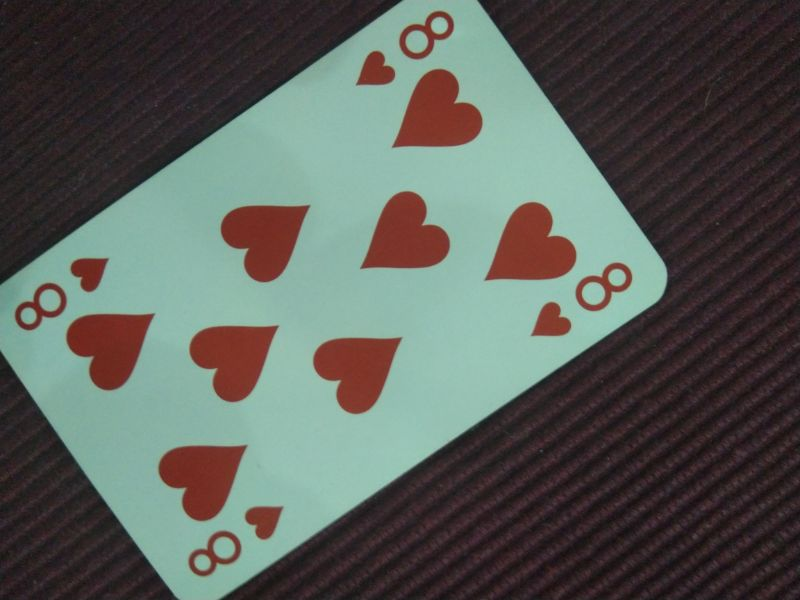8h: (529, 258, 638, 342), (354, 8, 459, 89), (185, 498, 286, 579), (12, 253, 110, 335)
